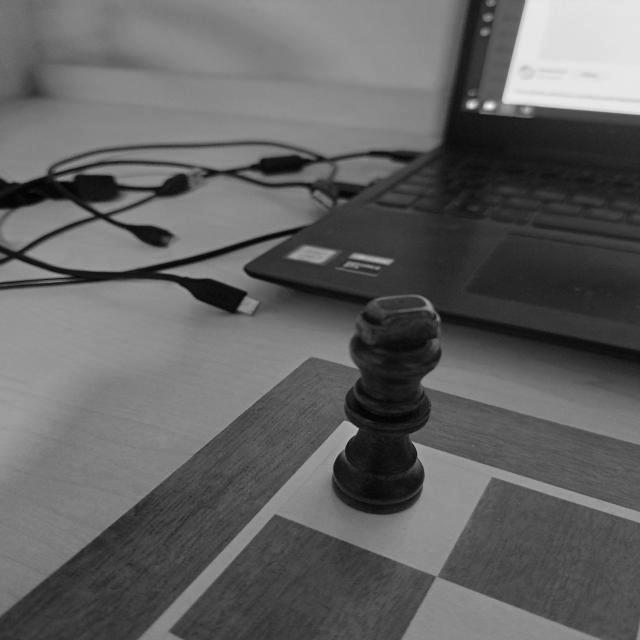chess-table-corners: (280, 401, 421, 468)
